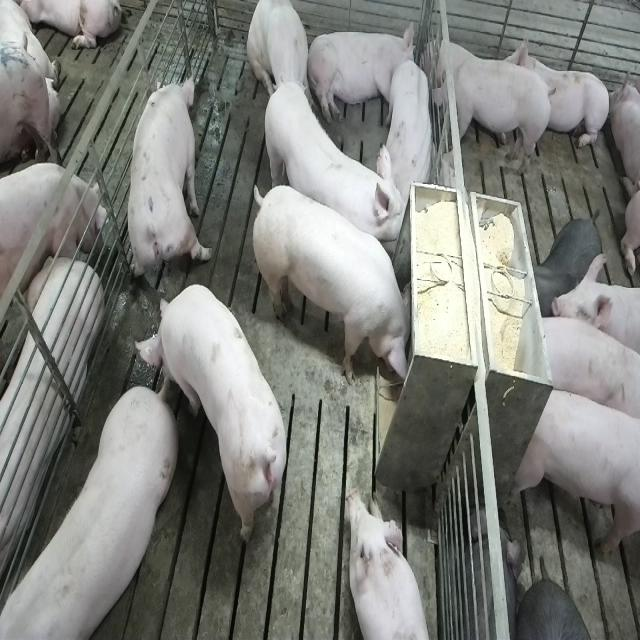Feeding: (255, 176, 420, 398)
Lateral_lying: (0, 250, 101, 611), (306, 18, 416, 126)
Sitting: (247, 1, 312, 114)
Standing: (0, 383, 175, 640), (131, 284, 285, 547), (260, 78, 398, 258), (510, 388, 638, 562), (125, 70, 210, 292), (428, 56, 554, 182), (0, 163, 105, 313), (531, 308, 638, 429)
Sternal_lying: (348, 486, 436, 640), (509, 31, 610, 154)
